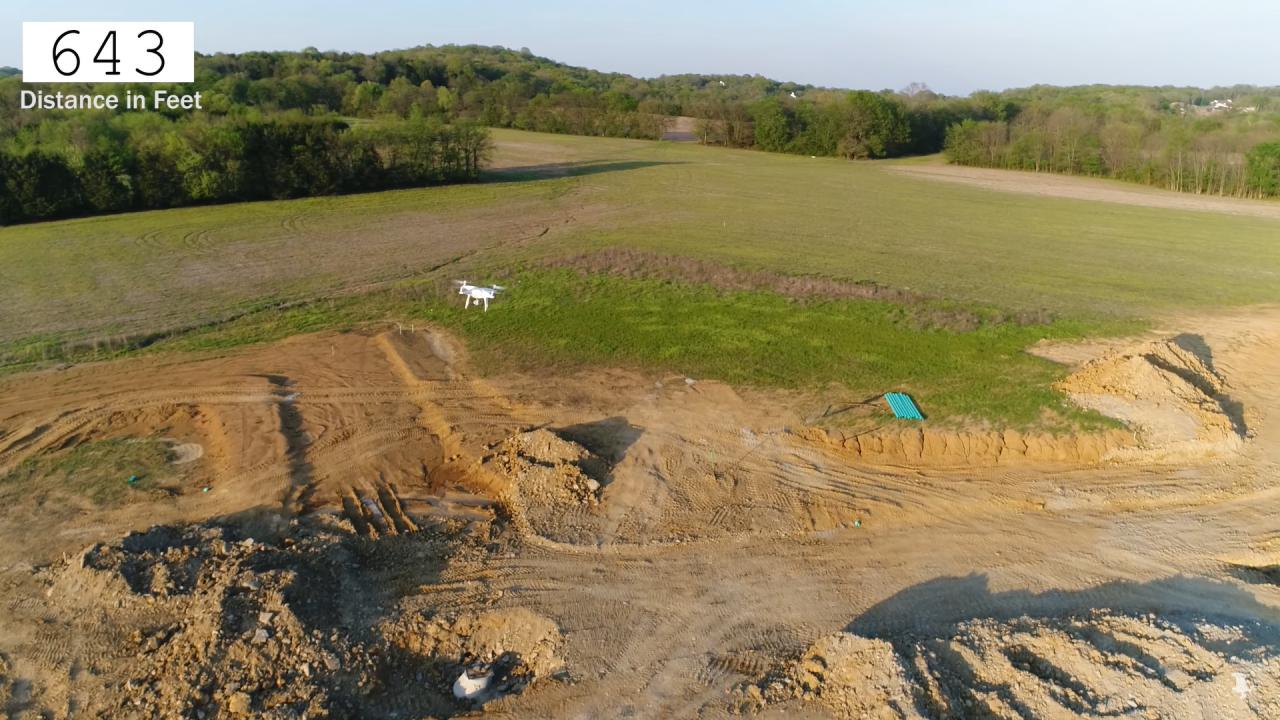Drone: (443, 270, 519, 320)
